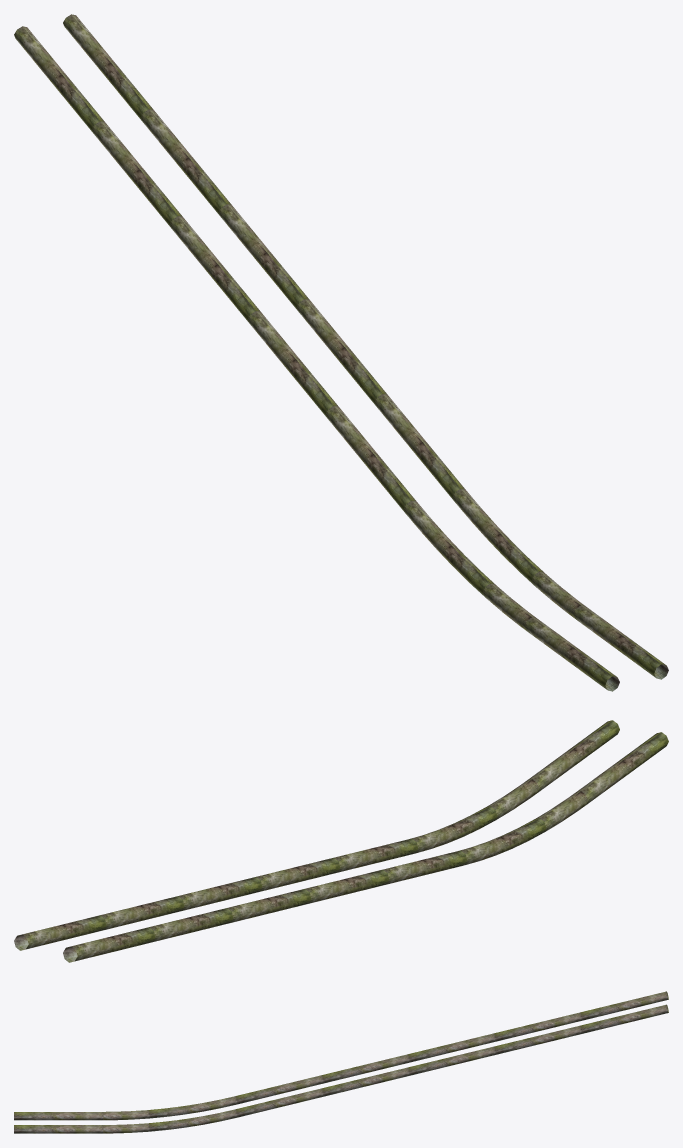
File: PPP.fbx
The picture shows the model from 3 angles, top to bottom: view 1: azimuth 30°, elevation 25°; view 2: azimuth 150°, elevation 25°; view 3: azimuth 270°, elevation 25°; orthographic projection. The views are drawn at different scales.
Parts seen in each view (by area): view 1: pipe_007, Object001, Object002; view 2: pipe_007, Object001, Object002; view 3: pipe_007, Object001, Object002.
Part boxes in pixels (box(x1,y1,x2,y2)): pipe_007: box(14, 14, 465, 512); Object001: box(403, 488, 585, 630); Object002: box(524, 605, 668, 691); pipe_007: box(14, 838, 466, 962); Object001: box(412, 779, 588, 865); Object002: box(527, 720, 668, 804); pipe_007: box(236, 991, 668, 1117); Object001: box(103, 1096, 237, 1133); Object002: box(14, 1112, 103, 1133).
Bounding box in the file's own units: 91.13 × 319 × 1469.
